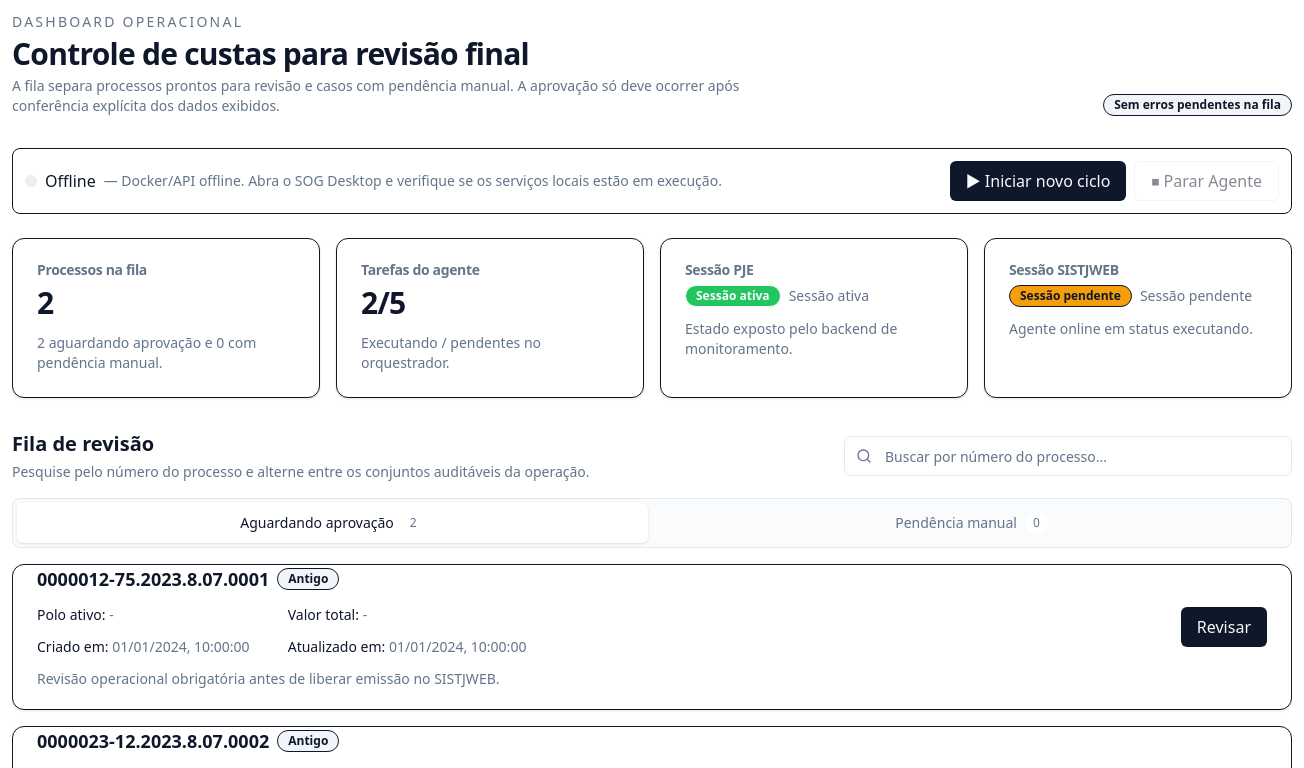
Test case: Fila › filtra processos por número de processo
Expected: the text "0000012-75.2023.8.07.0001" is shown, left=37, top=565, right=269, bottom=593
Expected: the text "0000023-12.2023.8.07.0002" is shown, left=37, top=727, right=269, bottom=755
Type "0000012" into the field labelled "Buscar por número do processo...".
click(1068, 456); type("0000012")  # box left=844, top=436, right=1292, bottom=476
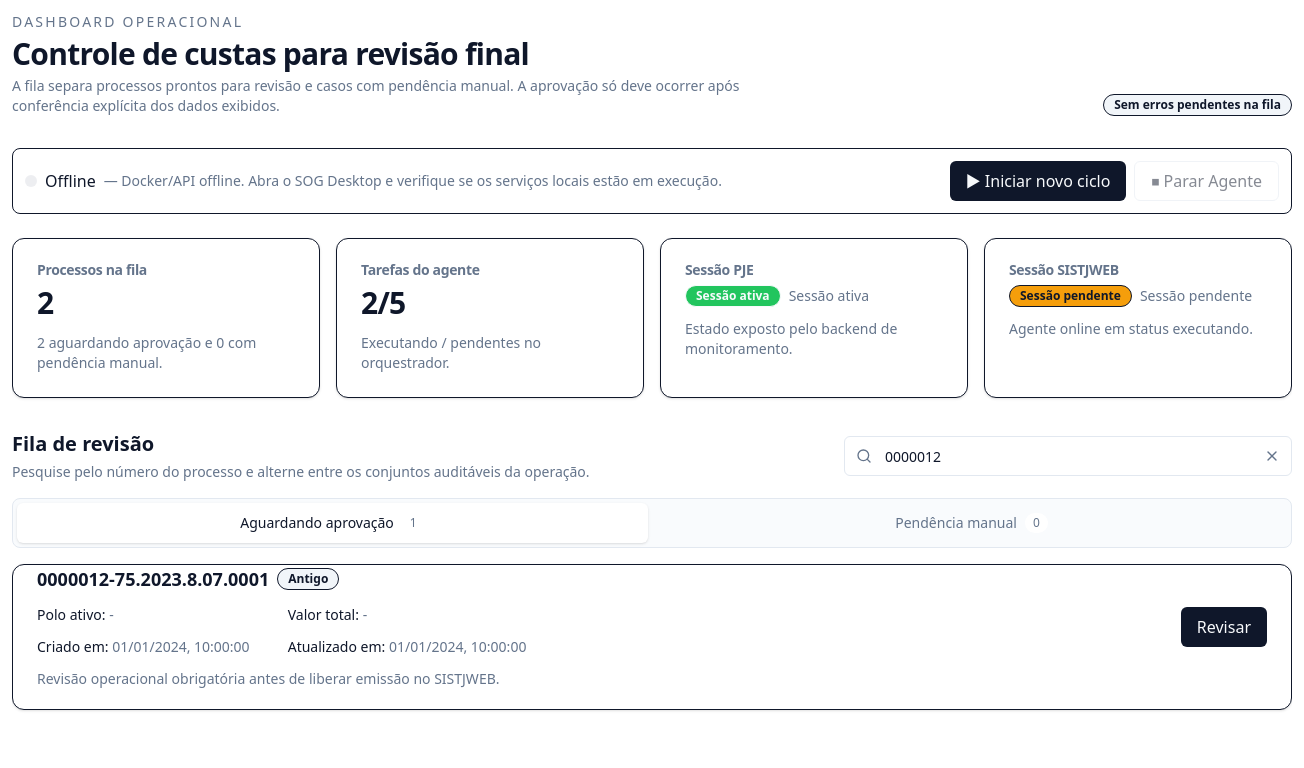
Expected: the text "0000012-75.2023.8.07.0001" is shown, left=37, top=565, right=269, bottom=593
Now the text "0000023-12.2023.8.07.0002" is gone
